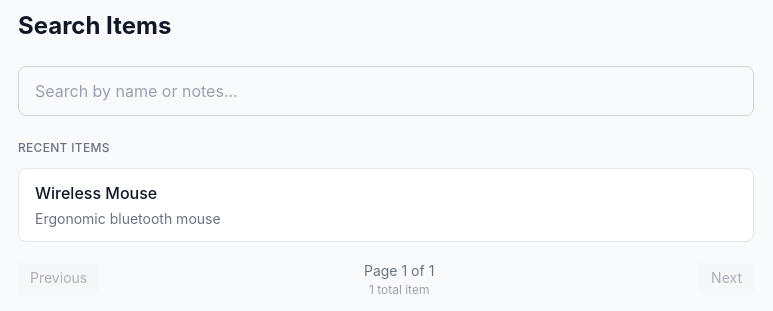
Test: SearchPage › shows search results after typing
Type "mouse" into the field with placeholder "Search by name or notes..." at (386, 91), box 18,66 -> 754,116
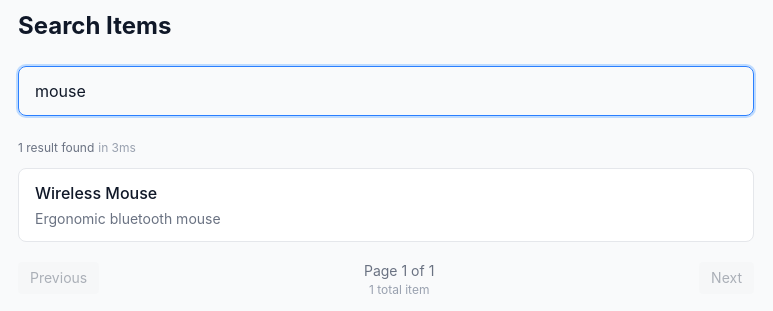
Check: the text "Wireless Mouse" is shown, box 35,183 -> 157,203
Check: the text "1 result found" is shown, box 18,140 -> 136,155
